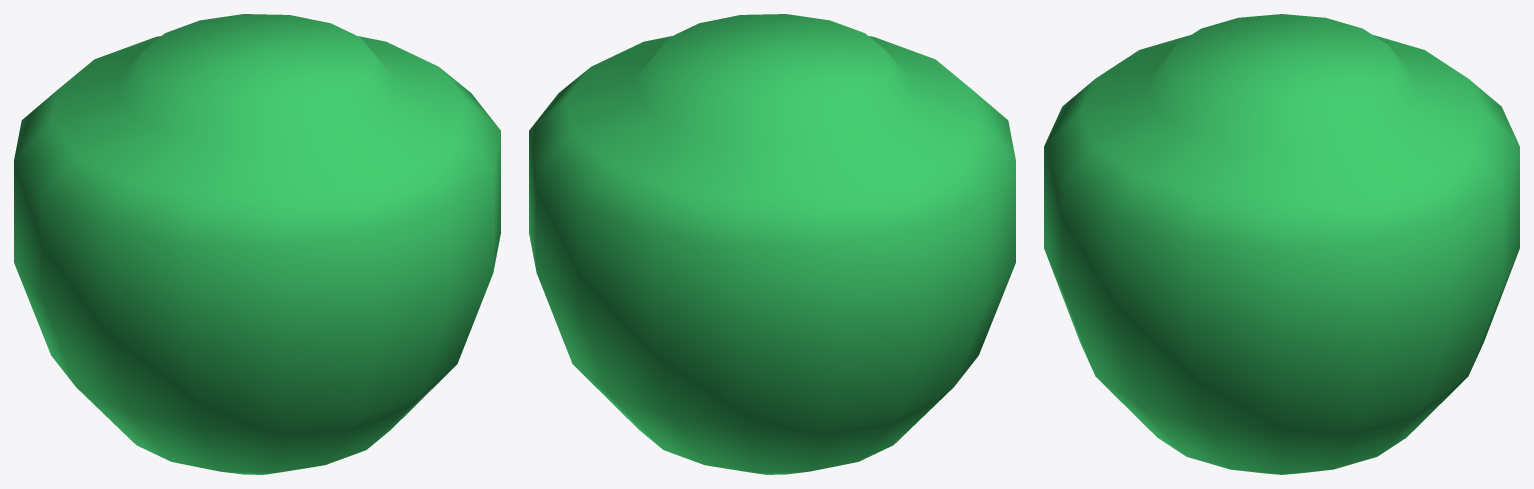
Rendered from Body1.glb.
3 renders of one model, left to right at view 1: azimuth 30°, elevation 25°; view 2: azimuth 150°, elevation 25°; view 3: azimuth 270°, elevation 25°, orthographic.
Parts seen in each view (by area): view 1: Body1; view 2: Body1; view 3: Body1.
Part boxes in pixels (x1,y1,x2,y2): Body1: [14, 14, 500, 474]; Body1: [529, 14, 1015, 474]; Body1: [1044, 14, 1519, 474].
Bounding box in the file's own units: 1.02 × 0.9192 × 0.9898.
